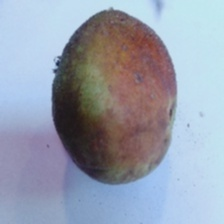guava: (14, 20, 188, 217)
